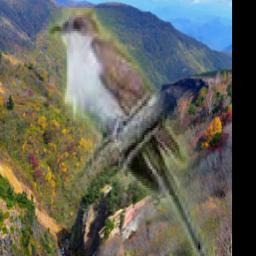Cuckoo: (49, 9, 218, 256)
